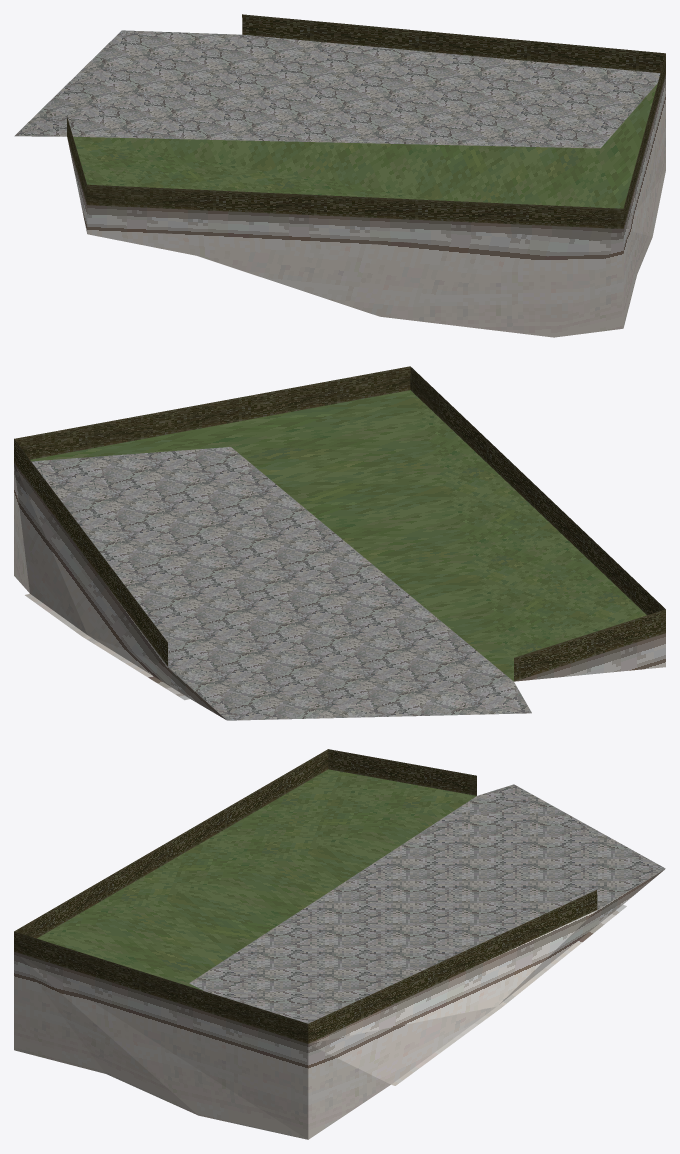
File: lodtcelandbi03.obj
3 renders of one model, top to bottom at view 1: azimuth 30°, elevation 25°; view 2: azimuth 150°, elevation 25°; view 3: azimuth 270°, elevation 25°, orthographic. The views are drawn at different scales.
Parts seen in each view (by area): view 1: LODTCElandbi03; view 2: LODTCElandbi03; view 3: LODTCElandbi03.
Part boxes in pixels (x1=…): LODTCElandbi03: x1=14, y1=14, x2=665, y2=337; LODTCElandbi03: x1=14, y1=366, x2=665, y2=720; LODTCElandbi03: x1=14, y1=749, x2=665, y2=1139.
Size of the model in its own units: 58.36 by 12.93 by 58.53.
Materials: 4 (4 with a texture image).
